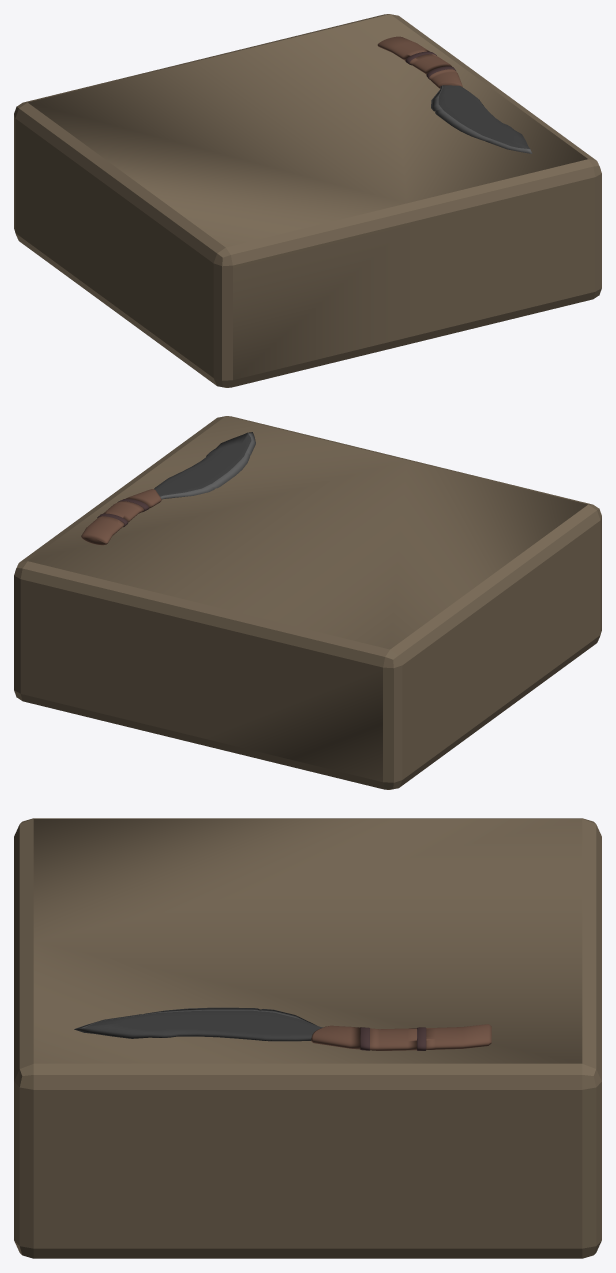
File: Bancada_so_com_a_faca.fbx
3 views of the same model, one above another, from view 1: azimuth 30°, elevation 25°; view 2: azimuth 150°, elevation 25°; view 3: azimuth 270°, elevation 25° (orthographic). The views are drawn at different scales.
Visible parts, largest first — view 1: Cube.101; view 2: Cube.101; view 3: Cube.101.
Part boxes in pixels (x1=…): Cube.101: x1=14, y1=14, x2=601, y2=387; Cube.101: x1=14, y1=416, x2=601, y2=789; Cube.101: x1=14, y1=818, x2=601, y2=1258.
Size of the model in its own units: 210 by 77.52 by 199.
